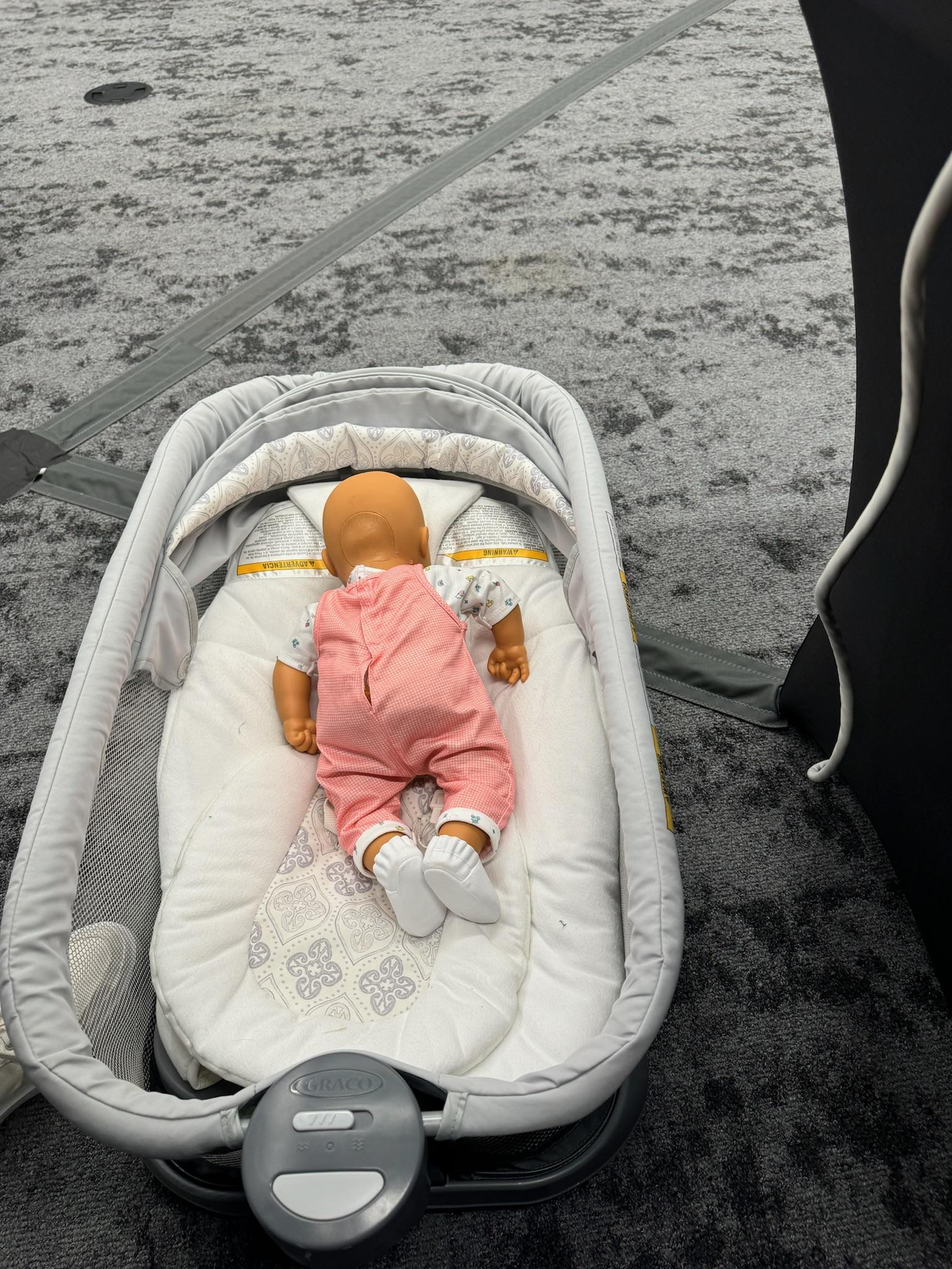baby: (271, 465, 548, 938)
